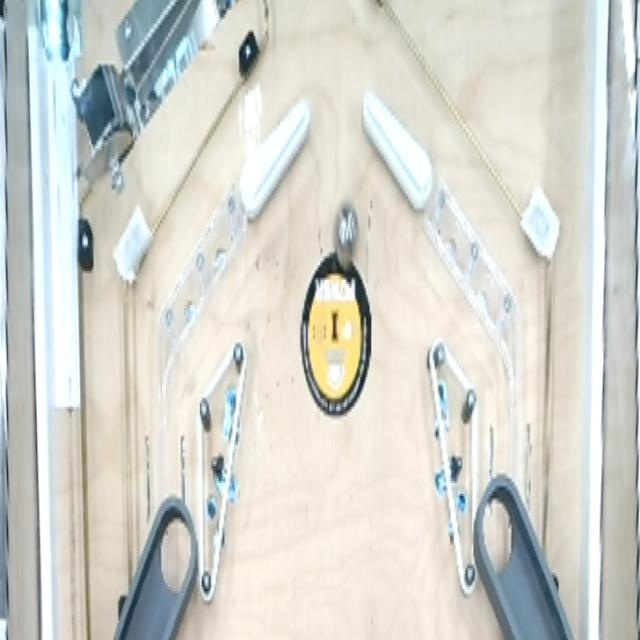ball: (332, 197, 363, 270)
flipper-left: (360, 85, 435, 217)
flipper-right: (238, 87, 312, 226)
